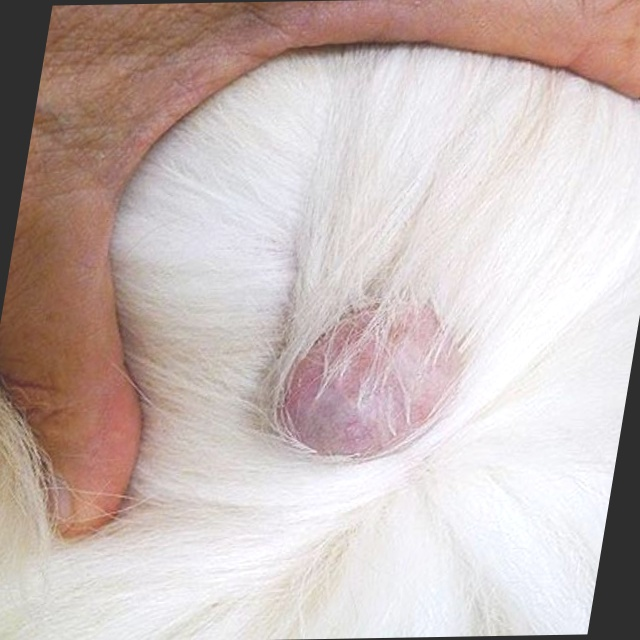lump_and_bump: (260, 310, 480, 455)
